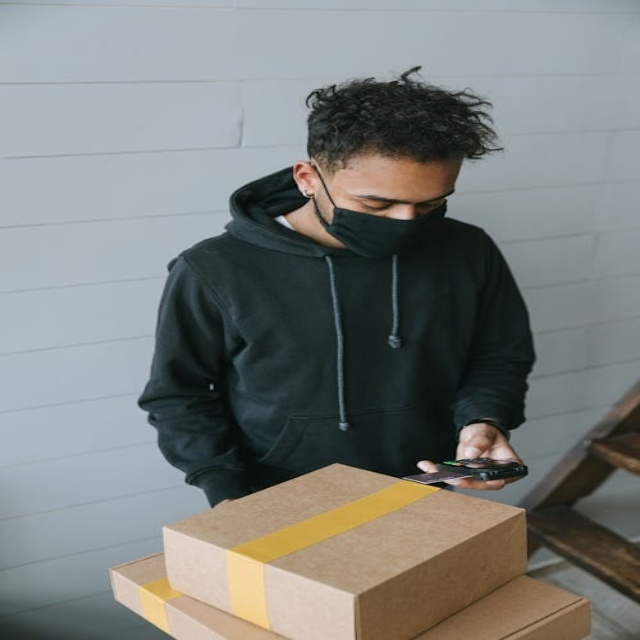Mascara: (308, 167, 446, 258)
Sin_gafas: (337, 182, 454, 218)
Sin_guantes: (401, 417, 550, 491)
